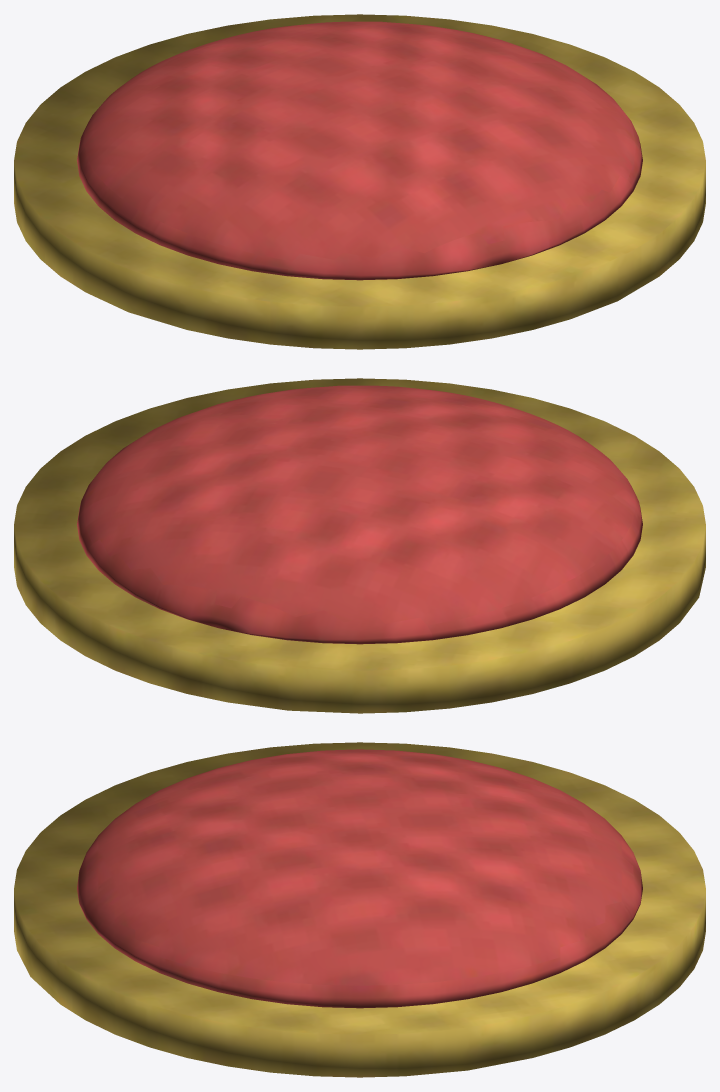
File: button.glb
The picture shows the model from 3 angles, top to bottom: view 1: azimuth 30°, elevation 25°; view 2: azimuth 150°, elevation 25°; view 3: azimuth 270°, elevation 25°; orthographic projection.
Parts seen in each view (by area): view 1: cap, button_base; view 2: cap, button_base; view 3: cap, button_base.
Part boxes in pixels (x1,y1,x2,y2): cap: [77, 21, 642, 280]; button_base: [14, 14, 705, 349]; cap: [77, 385, 642, 644]; button_base: [14, 378, 705, 713]; cap: [77, 749, 642, 1008]; button_base: [14, 742, 705, 1077].
Bounding box in the file's own units: 4.4 × 0.7999 × 4.4.
Materials: 1 (1 with a texture image).
